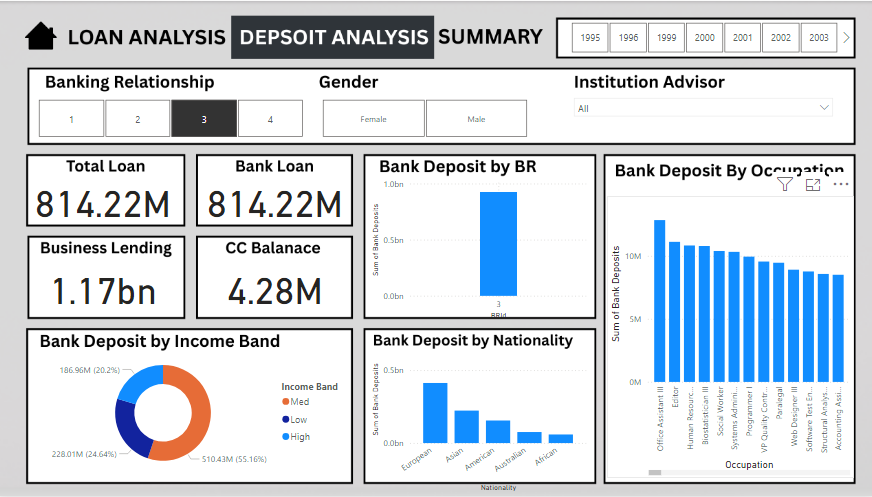

Layout of this report page (visuals, bound fields, positions):
{"tool":"powerbi","page":{"name":"Deposit","canvas":[1280,720],"ordinal":3},"visuals":[{"type":"slicer","fields":{"Values":["4545c34b-6225-4efc-b2f4-cad1aec.Year of Joining"]},"box":[811.6,24.7,436.4,56.7],"z":0},{"type":"actionButton","box":[101.1,31.4,235.4,36.6],"z":1000},{"type":"actionButton","box":[41.9,24.4,45.3,57.5],"z":2000},{"type":"actionButton","box":[640,27.9,158.7,40.1],"z":3000},{"type":"columnChart","fields":{"Category":["4545c34b-6225-4efc-b2f4-cad1aec.Nationality"],"Y":["Sum(4545c34b-6225-4efc-b2f4-cad1aec.Bank Deposits)"]},"box":[540.6,502.2,322.6,216.2],"z":4000},{"type":"columnChart","fields":{"Category":["4545c34b-6225-4efc-b2f4-cad1aec.BRId"],"Y":["Sum(4545c34b-6225-4efc-b2f4-cad1aec.Bank Deposits)"]},"box":[540.6,251.1,322.6,216.2],"z":5000},{"type":"slicer","fields":{"Values":["4545c34b-6225-4efc-b2f4-cad1aec.IAId"]},"box":[830.5,130.9,397.1,114.9],"z":6000},{"type":"slicer","fields":{"Values":["4545c34b-6225-4efc-b2f4-cad1aec.BRId"]},"box":[36.6,136,434.2,68],"z":7000},{"type":"slicer","fields":{"Values":["4545c34b-6225-4efc-b2f4-cad1aec.GenderId"]},"box":[449.9,136,347,68],"z":8000},{"type":"donutChart","fields":{"Category":["4545c34b-6225-4efc-b2f4-cad1aec.Income Band"],"Y":["Sum(4545c34b-6225-4efc-b2f4-cad1aec.Bank Deposits)"]},"box":[65.3,502.9,455,191.6],"z":9000},{"type":"columnChart","fields":{"Category":["4545c34b-6225-4efc-b2f4-cad1aec.Occupation"],"Y":["Sum(4545c34b-6225-4efc-b2f4-cad1aec.Bank Deposits)"]},"box":[888.2,283,359.2,411.4],"z":10000},{"type":"card","fields":{"Values":["Sum(4545c34b-6225-4efc-b2f4-cad1aec.Bank Loans)"]},"box":[292.4,256,226.9,65.5],"z":11000},{"type":"card","fields":{"Values":["Sum(4545c34b-6225-4efc-b2f4-cad1aec.Bank Loans)"]},"box":[42.2,256,226.9,65.5],"z":12000},{"type":"card","fields":{"Values":["Sum(4545c34b-6225-4efc-b2f4-cad1aec.Credit Card Balance)"]},"box":[292.4,382.5,226.9,65.5],"z":13000},{"type":"card","fields":{"Values":["Sum(4545c34b-6225-4efc-b2f4-cad1aec.Business Lending)"]},"box":[42.2,382.5,226.9,65.5],"z":14000}]}

Visuals, with their boxes in screenshot pixels (x1, y1, x2, y2), scaled from the page's 1280x720 canvas onto the 872x497 screenshot:
slicer - 4545c34b-6225-4efc-b2f4-cad1aec.Year of Joining: [553,17,850,56]
actionButton: [69,22,229,47]
actionButton: [29,17,59,57]
actionButton: [436,19,544,47]
columnChart - 4545c34b-6225-4efc-b2f4-cad1aec.Nationality x Sum(4545c34b-6225-4efc-b2f4-cad1aec.Bank Deposits): [368,347,588,496]
columnChart - 4545c34b-6225-4efc-b2f4-cad1aec.BRId x Sum(4545c34b-6225-4efc-b2f4-cad1aec.Bank Deposits): [368,173,588,323]
slicer - 4545c34b-6225-4efc-b2f4-cad1aec.IAId: [566,90,836,170]
slicer - 4545c34b-6225-4efc-b2f4-cad1aec.BRId: [25,94,321,141]
slicer - 4545c34b-6225-4efc-b2f4-cad1aec.GenderId: [306,94,543,141]
donutChart - 4545c34b-6225-4efc-b2f4-cad1aec.Income Band x Sum(4545c34b-6225-4efc-b2f4-cad1aec.Bank Deposits): [44,347,354,479]
columnChart - 4545c34b-6225-4efc-b2f4-cad1aec.Occupation x Sum(4545c34b-6225-4efc-b2f4-cad1aec.Bank Deposits): [605,195,850,479]
card - Sum(4545c34b-6225-4efc-b2f4-cad1aec.Bank Loans): [199,177,354,222]
card - Sum(4545c34b-6225-4efc-b2f4-cad1aec.Bank Loans): [29,177,183,222]
card - Sum(4545c34b-6225-4efc-b2f4-cad1aec.Credit Card Balance): [199,264,354,309]
card - Sum(4545c34b-6225-4efc-b2f4-cad1aec.Business Lending): [29,264,183,309]
